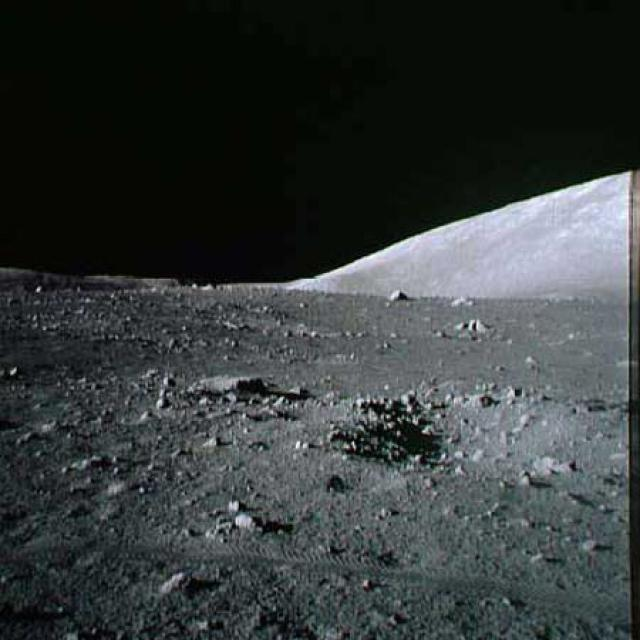rock: (188, 370, 268, 396), (534, 448, 590, 477), (157, 569, 194, 596), (451, 315, 491, 333), (467, 391, 492, 410), (235, 511, 255, 529), (388, 286, 405, 300), (205, 436, 222, 450)
